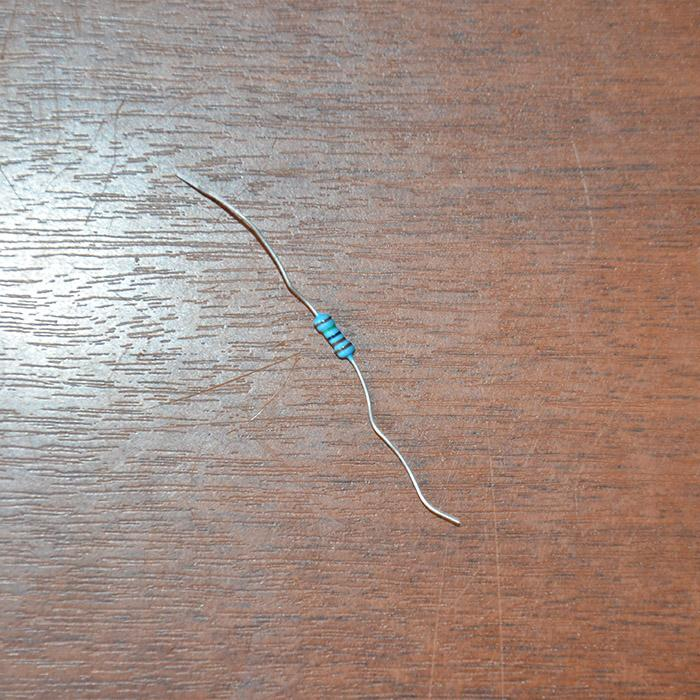resistor: (312, 311, 353, 359)
